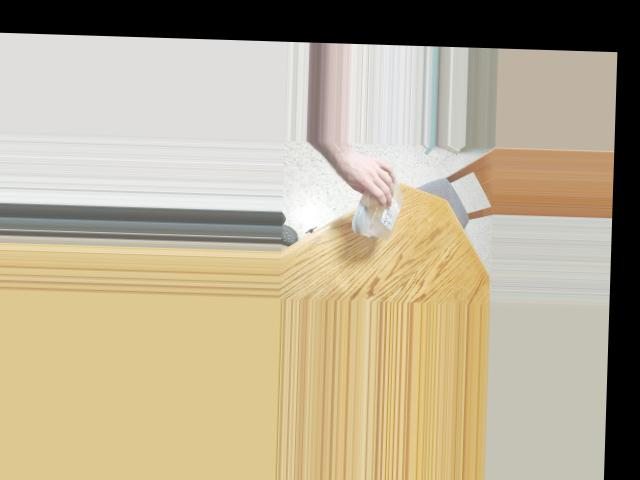cheese: (354, 178, 404, 235)
